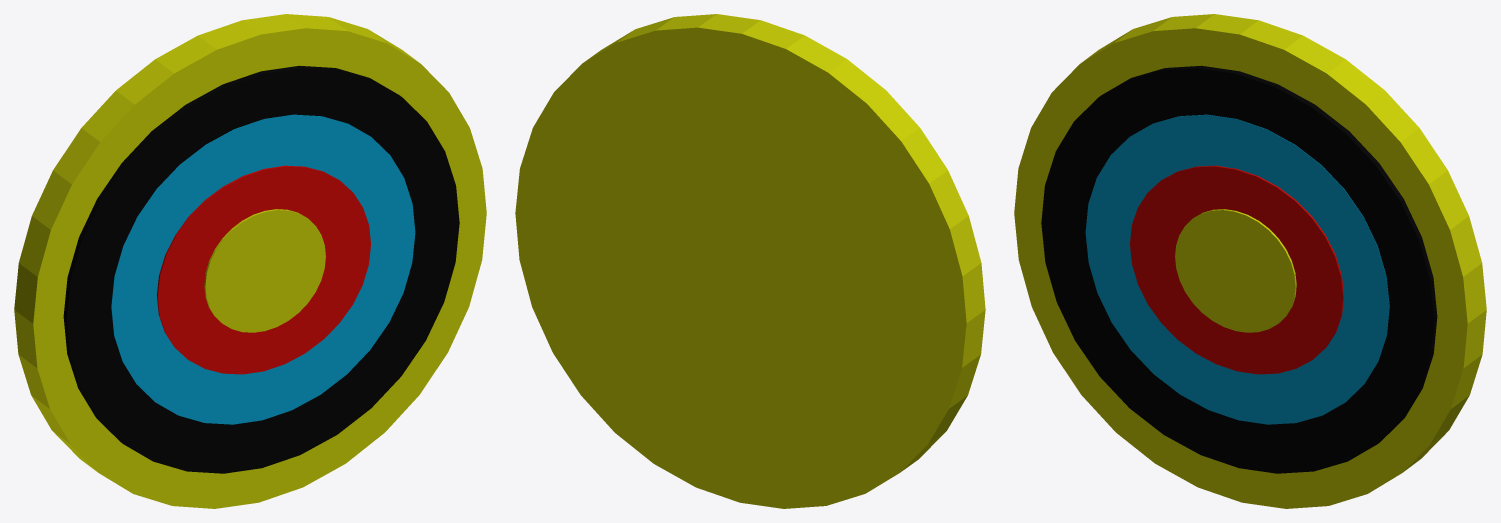
Rendered from target.glb.
3 views of the same model, side by side, from view 1: azimuth 30°, elevation 25°; view 2: azimuth 150°, elevation 25°; view 3: azimuth 330°, elevation 25° (orthographic).
Visible parts, largest first — view 1: 円柱; view 2: 円柱; view 3: 円柱.
Part boxes in pixels (x1,y1,x2,y2): 円柱: (14, 14, 486, 508); 円柱: (515, 14, 985, 508); 円柱: (1014, 14, 1486, 508).
Size of the model in its own units: 3.77 by 3.74 by 0.3767.
4 materials, 4 textured.
